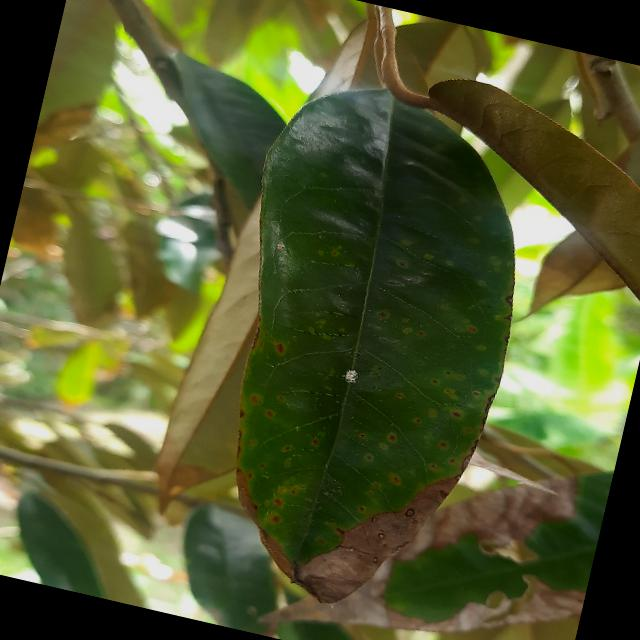Leaf Spot: (163, 62, 564, 632)
